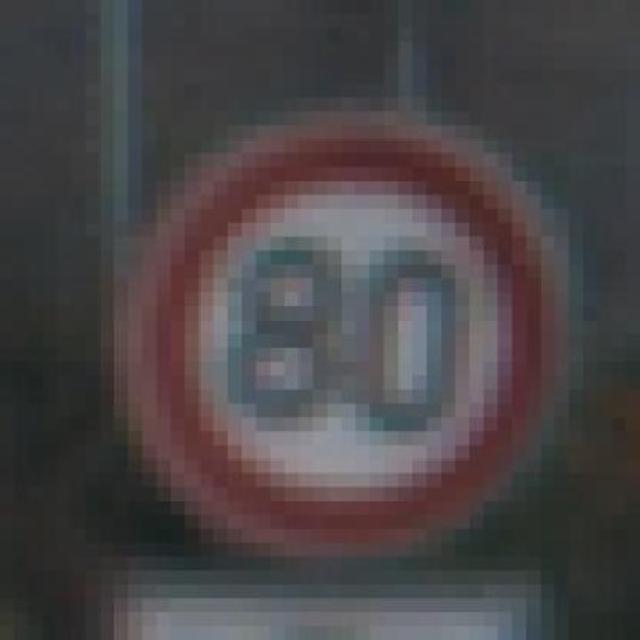forb_speed_over_80: (153, 128, 553, 552)
